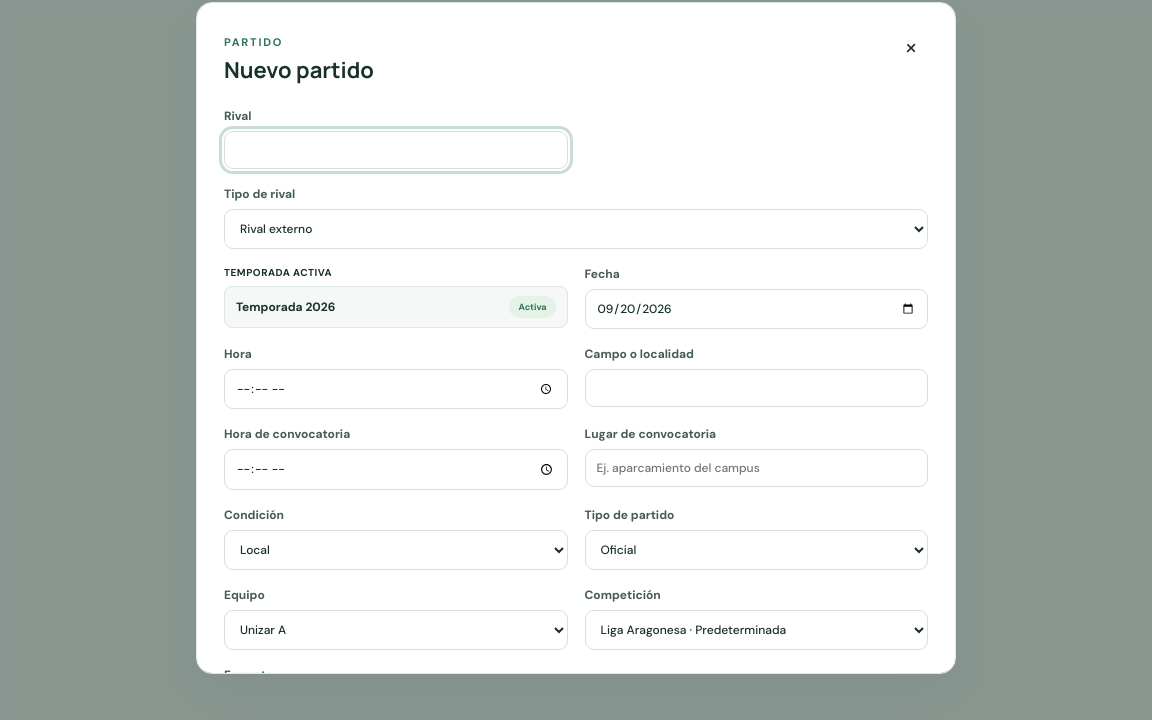
Test case: MatchForm competitions › explains why an internal match cannot be created with fewer than two competitive teams
The image size is (1152, 720).
Select "Otro equipo del CDU" in the dropdown labelled "Tipo de rival" at x=576, y=228, box x1=224 y1=208 x2=928 y2=248
(page scrolled)
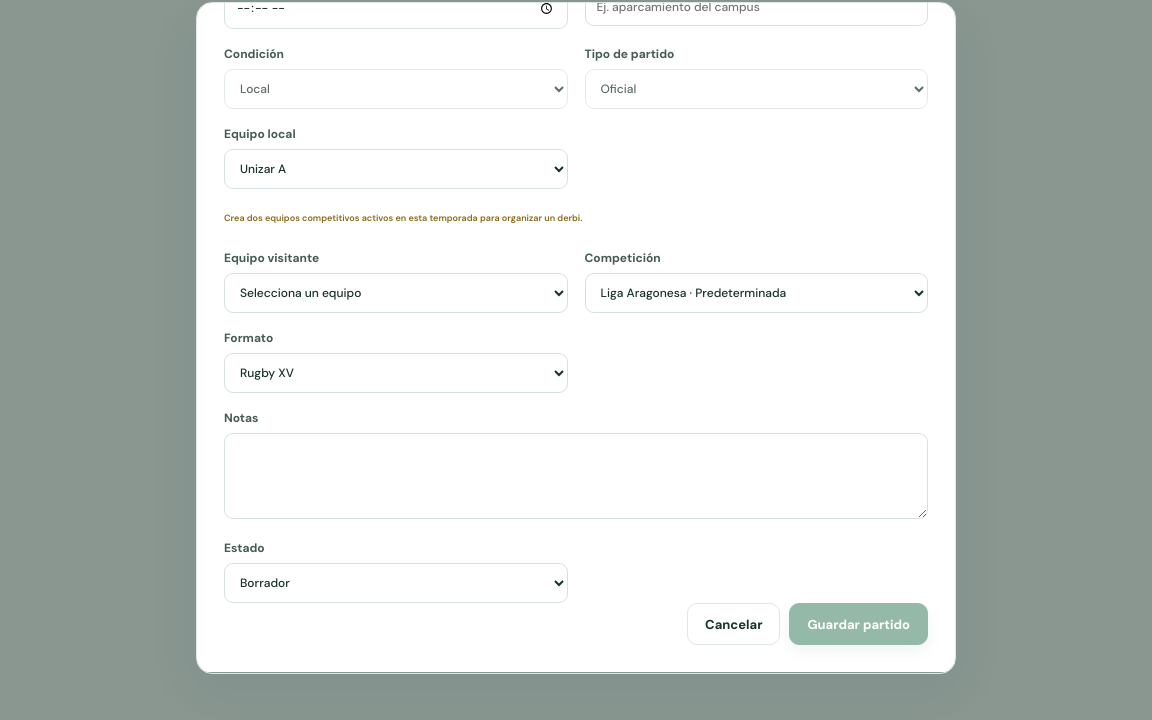
expect the text "Crea dos equipos competitivos activos en esta temporada para organizar un derbi." is shown: met, box x1=224 y1=212 x2=582 y2=224
expect the button "Guardar partido" is disabled: met, box x1=790 y1=603 x2=928 y2=645
